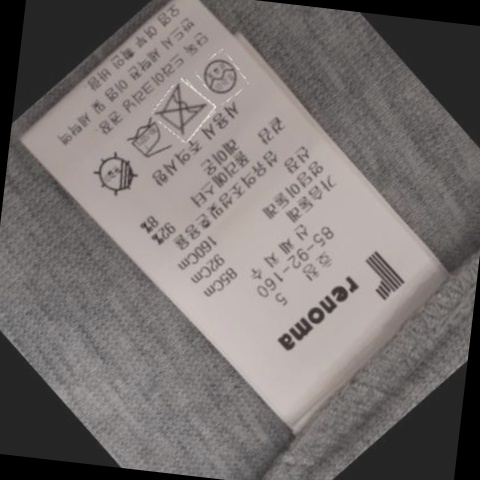DN_wash: (156, 86, 212, 134)
dry_clean_petrol_only: (201, 54, 244, 96)
iron_low: (124, 119, 173, 162)
line_dry_in_shade: (93, 153, 146, 197)
